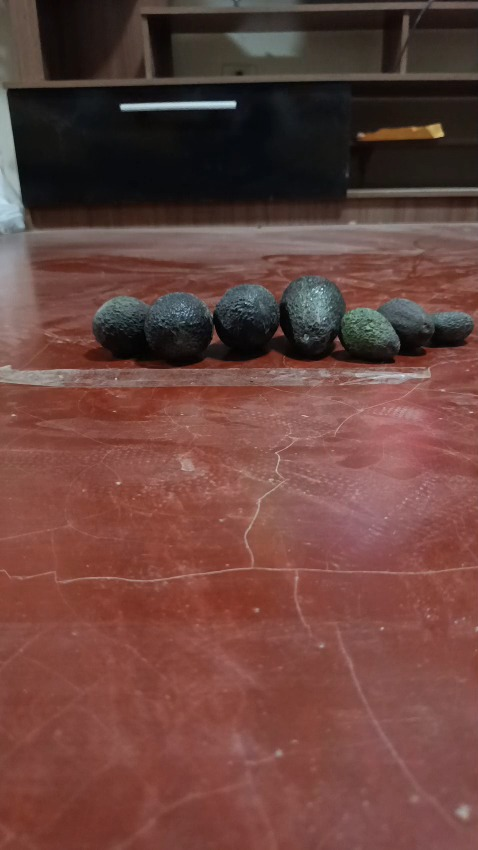Primera: (279, 274, 346, 357), (143, 291, 212, 363), (213, 282, 280, 353), (92, 295, 151, 357)
Segunda: (376, 296, 434, 353), (339, 306, 399, 361)
Tercera: (428, 311, 473, 346)
